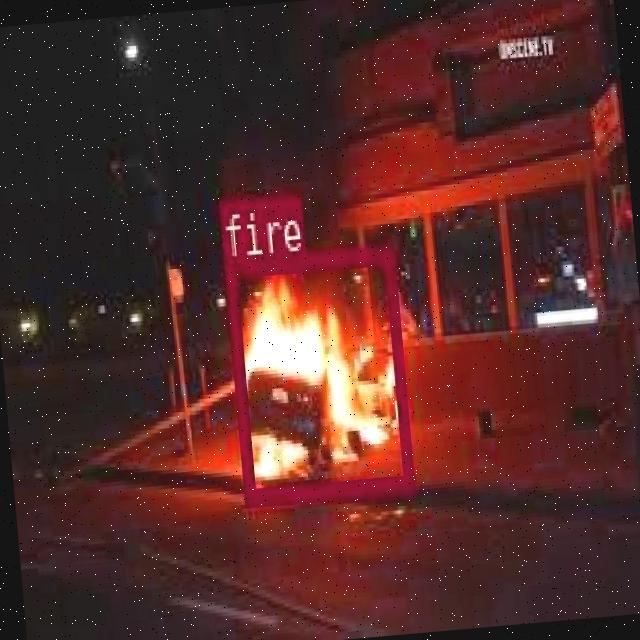fire: (222, 243, 411, 502)
